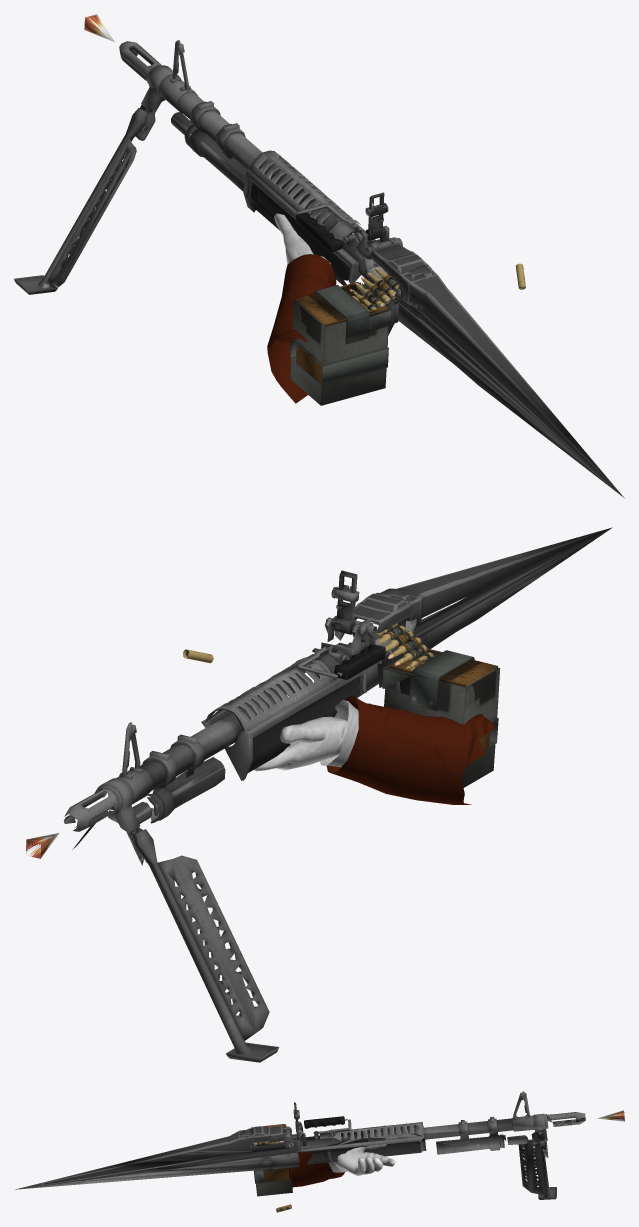
The model's file is frame_8.obj.
3 renders of one model, top to bottom at view 1: azimuth 30°, elevation 25°; view 2: azimuth 150°, elevation 25°; view 3: azimuth 270°, elevation 25°, orthographic. The views are drawn at different scales.
Visible parts, largest first — view 1: Mesh.005, PlayerModelMerged.001_PlayerModelMerged, Mesh.001; view 2: Mesh.005, PlayerModelMerged.001_PlayerModelMerged, Mesh.001; view 3: Mesh.005, PlayerModelMerged.001_PlayerModelMerged.
Part boxes in pixels (bbox=[...]): Mesh.005: bbox=[14, 40, 624, 498]; PlayerModelMerged.001_PlayerModelMerged: bbox=[267, 213, 336, 403]; Mesh.001: bbox=[349, 267, 398, 310]; Mesh.005: bbox=[64, 527, 612, 1062]; PlayerModelMerged.001_PlayerModelMerged: bbox=[254, 695, 495, 804]; Mesh.001: bbox=[377, 625, 433, 668]; Mesh.005: bbox=[15, 1091, 585, 1199]; PlayerModelMerged.001_PlayerModelMerged: bbox=[288, 1144, 395, 1187].
Bounding box in the file's own units: 0.7838 × 0.6117 × 2.4.
